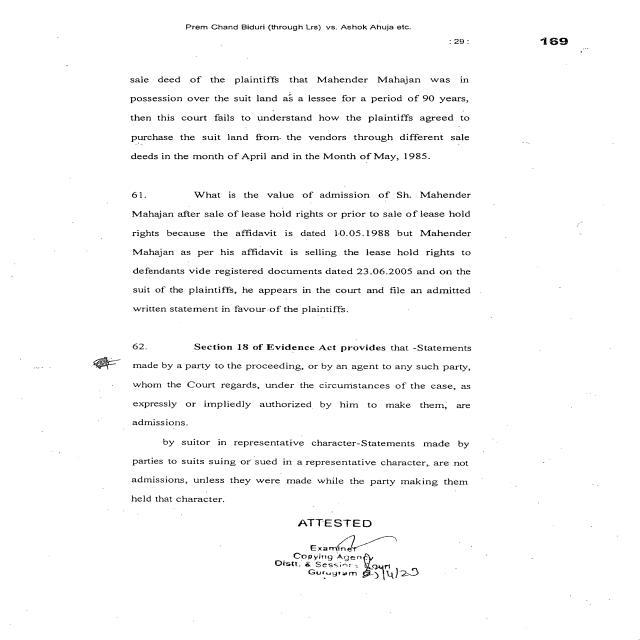page-number: (460, 0, 638, 53)
